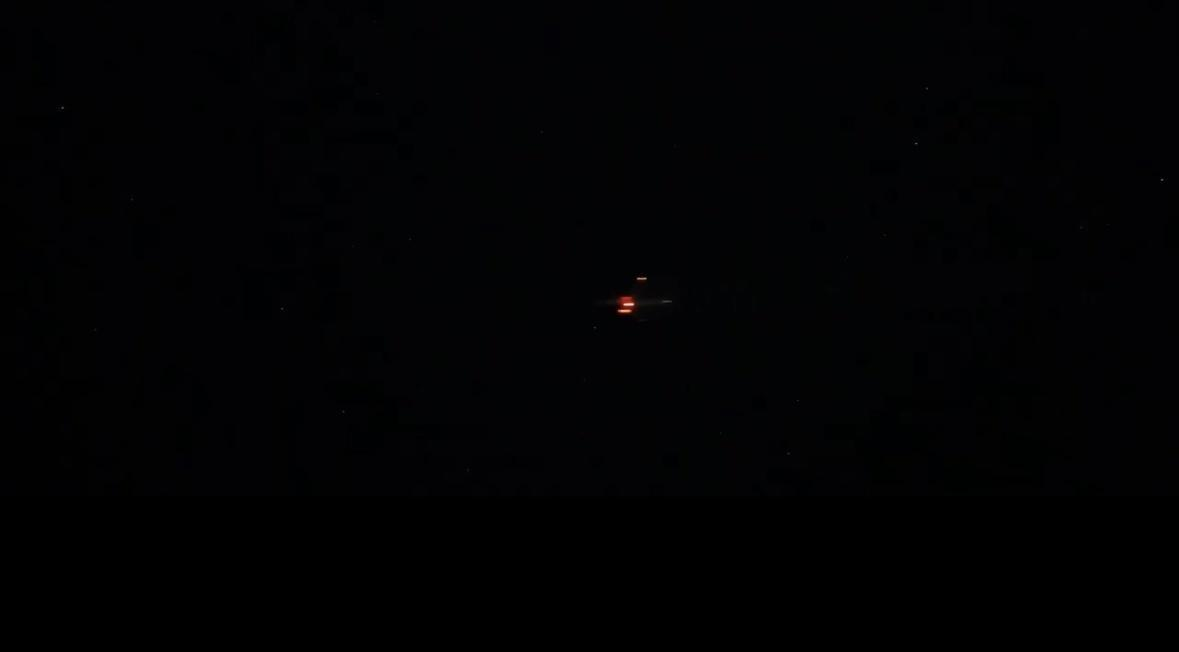Plane: (574, 259, 690, 333)
